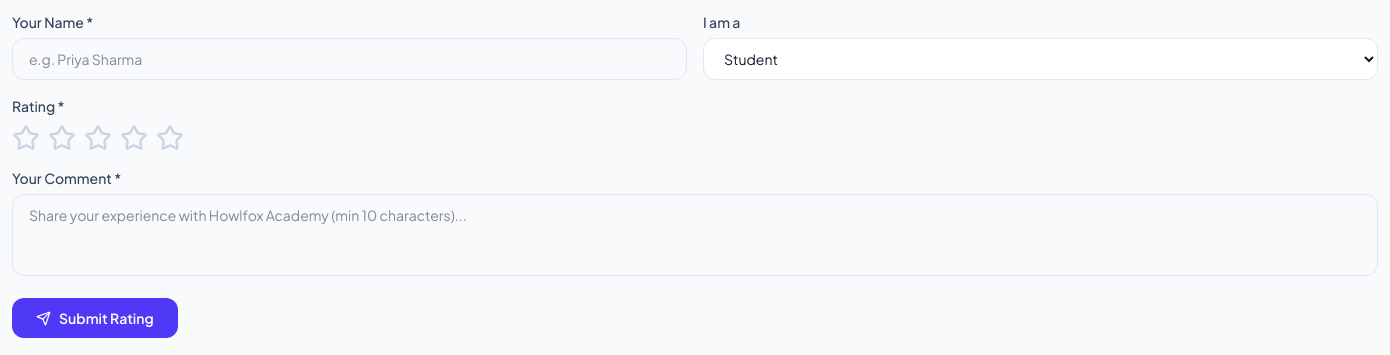
Test: RatingForm › submit button shows "Submitting..." while request is in-flight
The image size is (1390, 355).
Click the 1st button at (26, 138), box [12,124,40,152]
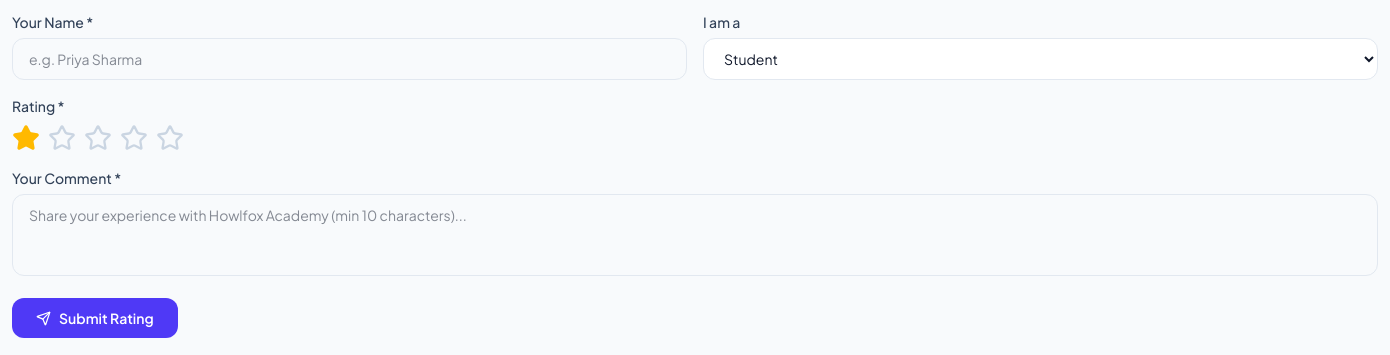
Type "Tester" into the field with placeholder "e.g. Priya Sharma" at (350, 59), box [12,38,687,80]
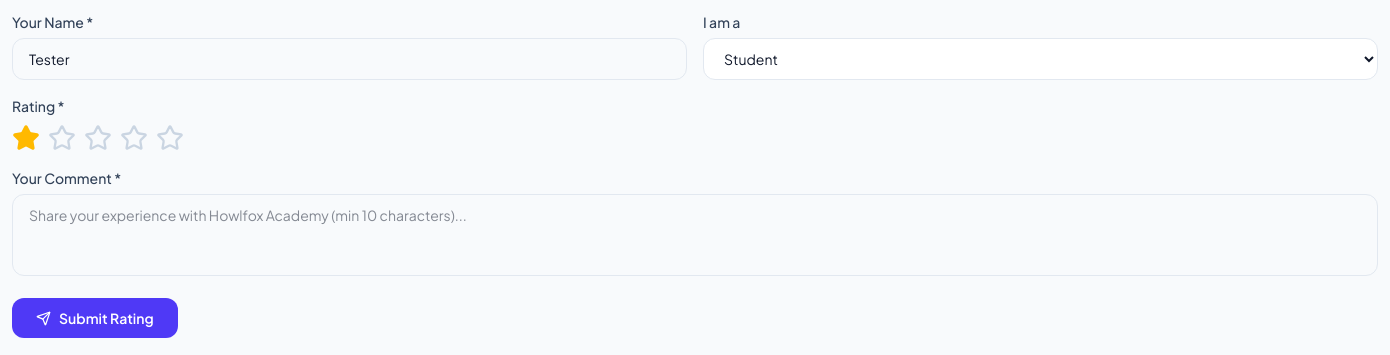
Replace the text in the text box with placeholder "Share your experience" with "Long enough comment here" at (695, 235), box [12,194,1378,276]
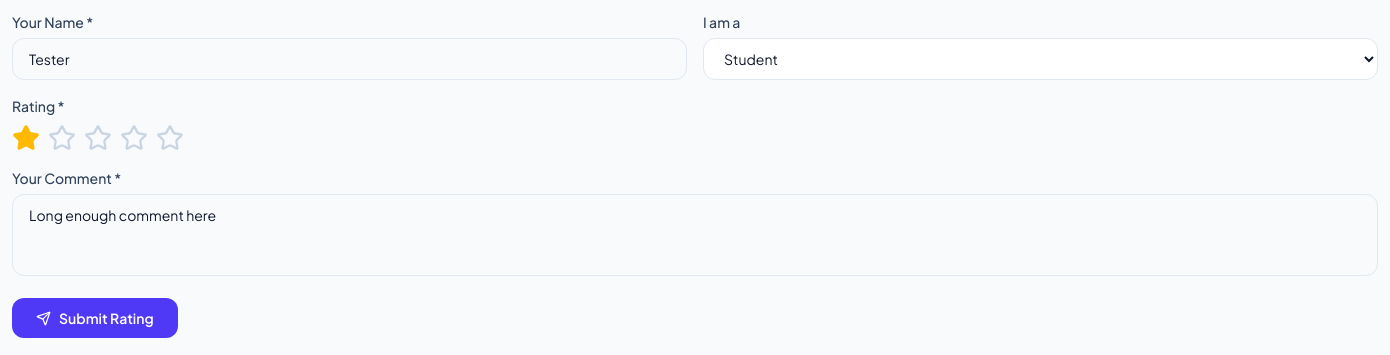
Click the button "Submit Rating" at (95, 318), box [12,298,178,338]
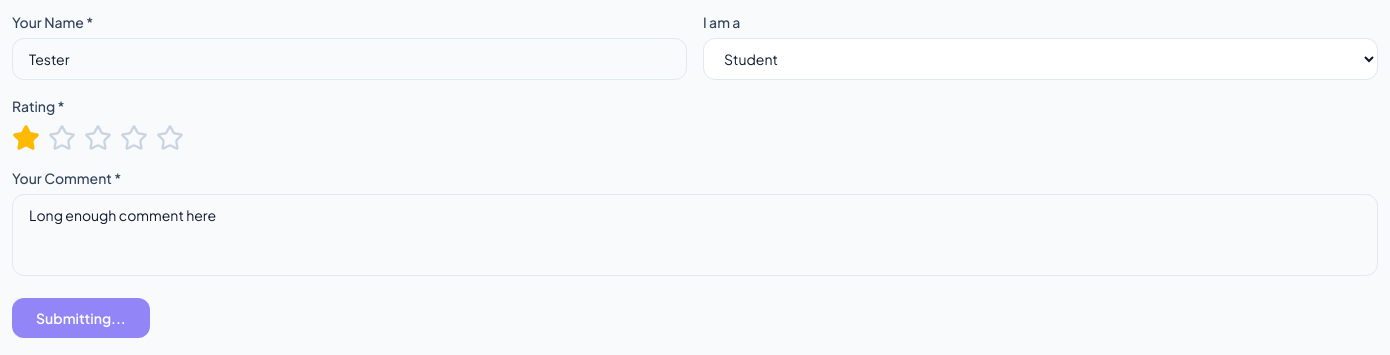
Now the button "Submitting..." is shown, box [12,298,150,338]
